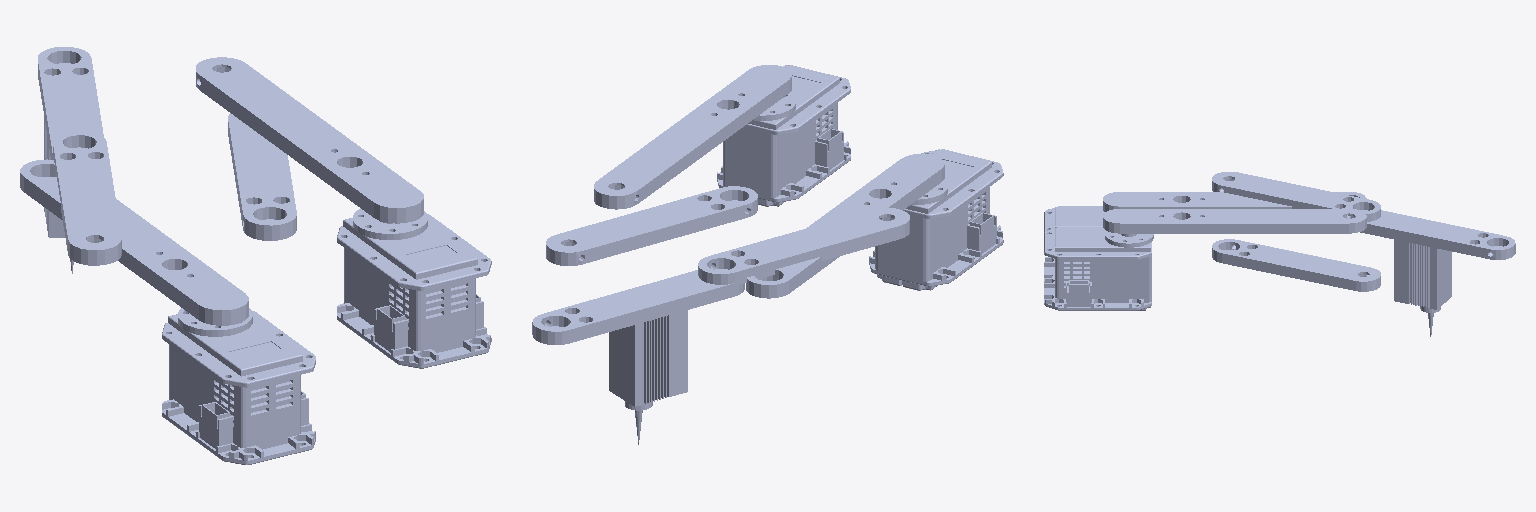
robot.urdf — manipulador:
<?xml version="1.0" encoding="utf-8"?>
<!-- This URDF was automatically created by SolidWorks to URDF Exporter! Originally created by [author] ([email redacted]) 
     Commit Version: 1.6.0-4-g7f85cfe  Build Version: 1.6.7995.38578
     For more information, please see http://wiki.ros.org/sw_urdf_exporter -->
<robot
  name="manipulador">
  <link
    name="base_link">
    <inertial>
      <origin
        xyz="0.0375 0.02573 -0.0032613"
        rpy="0 0 0" />
      <mass
        value="0.12459" />
      <inertia
        ixx="4.8498E-05"
        ixy="8.6614E-11"
        ixz="-3.7741E-13"
        iyy="4.0441E-05"
        iyz="1.0139E-06"
        izz="2.6601E-05" />
    </inertial>
    <visual>
      <origin
        xyz="0 0 0"
        rpy="0 0 0" />
      <geometry>
        <mesh
          filename="package://manipulador/meshes/base_link.STL" />
      </geometry>
      <material
        name="">
        <color
          rgba="0.79216 0.81961 0.93333 1" />
      </material>
    </visual>
    <collision>
      <origin
        xyz="0 0 0"
        rpy="0 0 0" />
      <geometry>
        <mesh
          filename="package://manipulador/meshes/base_link.STL" />
      </geometry>
    </collision>
  </link>
  <link
    name="Link1">
    <inertial>
      <origin
        xyz="-1.1752E-05 -0.0018106 0.0031623"
        rpy="0 0 0" />
      <mass
        value="0.017167" />
      <inertia
        ixx="2.9113E-05"
        ixy="1.4143E-08"
        ixz="2.6924E-12"
        iyy="6.4633E-07"
        iyz="1.4536E-08"
        izz="2.9643E-05" />
    </inertial>
    <visual>
      <origin
        xyz="0 0 0"
        rpy="0 0 0" />
      <geometry>
        <mesh
          filename="package://manipulador/meshes/Link1.STL" />
      </geometry>
      <material
        name="">
        <color
          rgba="0.79216 0.81961 0.93333 1" />
      </material>
    </visual>
    <collision>
      <origin
        xyz="0 0 0"
        rpy="0 0 0" />
      <geometry>
        <mesh
          filename="package://manipulador/meshes/Link1.STL" />
      </geometry>
    </collision>
  </link>
  <joint
    name="Joint1"
    type="revolute">
    <origin
      xyz="0 0.04755 0.04365"
      rpy="-3.1416 0 3.1416" />
    <parent
      link="base_link" />
    <child
      link="Link1" />
    <axis
      xyz="0 0 1" />
    <limit
      lower="0"
      upper="0"
      effort="100"
      velocity="100" />
    <dynamics
      damping="0.1"
      friction="0.1" />
  </joint>
  <link
    name="Link1a">
    <inertial>
      <origin
        xyz="-3.842E-05 -0.00096496 0.003162"
        rpy="0 0 0" />
      <mass
        value="0.011022" />
      <inertia
        ixx="7.9873E-06"
        ixy="4.0866E-10"
        ixz="5.4898E-12"
        iyy="4.2131E-07"
        iyz="2.9516E-08"
        izz="8.3325E-06" />
    </inertial>
    <visual>
      <origin
        xyz="0 0 0"
        rpy="0 0 0" />
      <geometry>
        <mesh
          filename="package://manipulador/meshes/Link1a.STL" />
      </geometry>
      <material
        name="">
        <color
          rgba="0.79216 0.81961 0.93333 1" />
      </material>
    </visual>
    <collision>
      <origin
        xyz="0 0 0"
        rpy="0 0 0" />
      <geometry>
        <mesh
          filename="package://manipulador/meshes/Link1a.STL" />
      </geometry>
    </collision>
  </link>
  <joint
    name="Joint1a"
    type="revolute">
    <origin
      xyz="-0.018749 0.10314 -0.001"
      rpy="3.1416 0 -2.6847" />
    <parent
      link="Link1" />
    <child
      link="Link1a" />
    <axis
      xyz="0 0 1" />
    <limit
      lower="0"
      upper="0"
      effort="100"
      velocity="100" />
    <dynamics
      damping="0.1"
      friction="0.1" />
  </joint>
  <link
    name="EF">
    <inertial>
      <origin
        xyz="6.9389E-18 0.0016625 0.023737"
        rpy="0 0 0" />
      <mass
        value="0.018703" />
      <inertia
        ixx="4.4249E-06"
        ixy="5.294E-22"
        ixz="-7.5434E-22"
        iyy="3.8509E-06"
        iyz="-5.4862E-08"
        izz="1.7924E-06" />
    </inertial>
    <visual>
      <origin
        xyz="0 0 0"
        rpy="0 0 0" />
      <geometry>
        <mesh
          filename="package://manipulador/meshes/EF.STL" />
      </geometry>
      <material
        name="">
        <color
          rgba="0.79216 0.81961 0.93333 1" />
      </material>
    </visual>
    <collision>
      <origin
        xyz="0 0 0"
        rpy="0 0 0" />
      <geometry>
        <mesh
          filename="package://manipulador/meshes/EF.STL" />
      </geometry>
    </collision>
  </link>
  <joint
    name="JEF"
    type="fixed">
    <origin
      xyz="0 0.0375 0"
      rpy="3.1416 0 -3.1416" />
    <parent
      link="Link1a" />
    <child
      link="EF" />
    <axis
      xyz="0 0 0" />
    <dynamics
      damping="0.1"
      friction="0.1" />
  </joint>
  <link
    name="Link2">
    <inertial>
      <origin
        xyz="-1.2329E-05 -0.0018106 0.0031623"
        rpy="0 0 0" />
      <mass
        value="0.017167" />
      <inertia
        ixx="2.9113E-05"
        ixy="1.4143E-08"
        ixz="2.6924E-12"
        iyy="6.4633E-07"
        iyz="1.4536E-08"
        izz="2.9643E-05" />
    </inertial>
    <visual>
      <origin
        xyz="0 0 0"
        rpy="0 0 0" />
      <geometry>
        <mesh
          filename="package://manipulador/meshes/Link2.STL" />
      </geometry>
      <material
        name="">
        <color
          rgba="0.79216 0.81961 0.93333 1" />
      </material>
    </visual>
    <collision>
      <origin
        xyz="0 0 0"
        rpy="0 0 0" />
      <geometry>
        <mesh
          filename="package://manipulador/meshes/Link2.STL" />
      </geometry>
    </collision>
  </link>
  <joint
    name="Joint2"
    type="revolute">
    <origin
      xyz="0.074999 0.04755 0.0657"
      rpy="-3.1416 0 3.1416" />
    <parent
      link="base_link" />
    <child
      link="Link2" />
    <axis
      xyz="0 0 1" />
    <limit
      lower="0"
      upper="0"
      effort="100"
      velocity="100" />
    <dynamics
      damping="0.1"
      friction="0.1" />
  </joint>
  <link
    name="Link2a">
    <inertial>
      <origin
        xyz="-3.842E-05 -0.00096496 0.003162"
        rpy="0 0 0" />
      <mass
        value="0.011022" />
      <inertia
        ixx="7.9873E-06"
        ixy="4.0866E-10"
        ixz="5.4898E-12"
        iyy="4.2131E-07"
        iyz="2.9516E-08"
        izz="8.3325E-06" />
    </inertial>
    <visual>
      <origin
        xyz="0 0 0"
        rpy="0 0 0" />
      <geometry>
        <mesh
          filename="package://manipulador/meshes/Link2a.STL" />
      </geometry>
      <material
        name="">
        <color
          rgba="0.79216 0.81961 0.93333 1" />
      </material>
    </visual>
    <collision>
      <origin
        xyz="0 0 0"
        rpy="0 0 0" />
      <geometry>
        <mesh
          filename="package://manipulador/meshes/Link2a.STL" />
      </geometry>
    </collision>
  </link>
  <joint
    name="Joint2a"
    type="revolute">
    <origin
      xyz="0.05625 0.10314 0.02105"
      rpy="3.1416 0 -2.6847" />
    <parent
      link="Link2" />
    <child
      link="Link2a" />
    <axis
      xyz="0 0 1" />
    <limit
      lower="0"
      upper="0"
      effort="100"
      velocity="100" />
    <dynamics
      damping="0.1"
      friction="0.1" />
  </joint>
  <link
    name="Link12a">
    <inertial>
      <origin
        xyz="-3.842E-05 -0.00096496 0.003162"
        rpy="0 0 0" />
      <mass
        value="0.011022" />
      <inertia
        ixx="7.9873E-06"
        ixy="4.0866E-10"
        ixz="5.4898E-12"
        iyy="4.2131E-07"
        iyz="2.9516E-08"
        izz="8.3325E-06" />
    </inertial>
    <visual>
      <origin
        xyz="0 0 0"
        rpy="0 0 0" />
      <geometry>
        <mesh
          filename="package://manipulador/meshes/Link12a.STL" />
      </geometry>
      <material
        name="">
        <color
          rgba="0.79216 0.81961 0.93333 1" />
      </material>
    </visual>
    <collision>
      <origin
        xyz="0 0 0"
        rpy="0 0 0" />
      <geometry>
        <mesh
          filename="package://manipulador/meshes/Link12a.STL" />
      </geometry>
    </collision>
  </link>
  <joint
    name="Joint12a"
    type="revolute">
    <origin
      xyz="0 0 0"
      rpy="0 0 0" />
    <parent
      link="Link2a" />
    <child
      link="Link12a" />
    <axis
      xyz="0 0 1" />
    <limit
      lower="0"
      upper="0"
      effort="100"
      velocity="100" />
    <dynamics
      damping="0.1"
      friction="0.1" />
  </joint>
</robot>

--- Render facts (derived) ---
3 views of the same robot in one strip: view 1: azimuth 30°, elevation 25°; view 2: azimuth 150°, elevation 25°; view 3: azimuth 270°, elevation 25° (orthographic).
Robot: manipulador — 7 links, 6 joints (5 revolute, 1 fixed); root link base_link; default pose: all joints at 0.
Links seen in each view (by area): view 1: base_link, Link2, Link1, Link12a, Link2a, Link1a, EF; view 2: base_link, Link2, Link2a, Link12a, EF, Link1a, Link1; view 3: base_link, Link2, Link2a, EF, Link1a, Link12a, Link1.
Boxes of the visible links, box(x1,y1,x2,y2) form: base_link: box(162, 208, 491, 464); Link2: box(196, 57, 423, 223); Link1: box(20, 159, 248, 325); Link12a: box(53, 131, 121, 265); Link2a: box(228, 113, 296, 240); Link1a: box(38, 47, 103, 159); EF: box(44, 111, 101, 273); base_link: box(717, 65, 1003, 290); Link2: box(594, 65, 791, 209); Link2a: box(546, 186, 757, 265); Link12a: box(698, 208, 909, 285); EF: box(609, 280, 687, 444); Link1a: box(532, 269, 744, 344); Link1: box(746, 154, 944, 298); base_link: box(1044, 206, 1153, 310); Link2: box(1103, 209, 1366, 233); Link2a: box(1212, 239, 1380, 291); EF: box(1394, 216, 1451, 336); Link1a: box(1360, 210, 1515, 259); Link12a: box(1212, 172, 1380, 221); Link1: box(1103, 192, 1366, 211).
Size in the robot's own frame: 0.1323 by 0.2674 by 0.0954 metres.
7 mesh visuals loaded from 7 distinct referenced files (7 binary STL).
